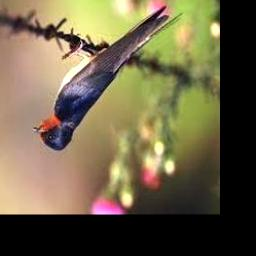Swallow: (33, 5, 183, 150)
